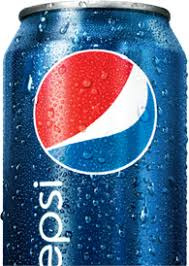pepsi: (3, 1, 189, 258)
